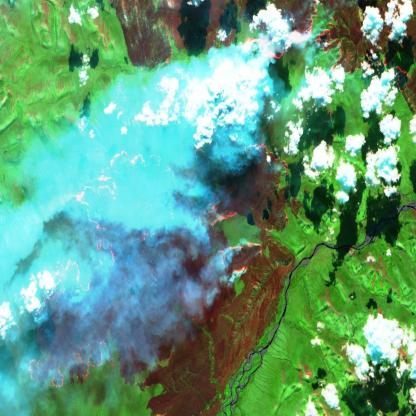fire: (16, 0, 415, 416)
